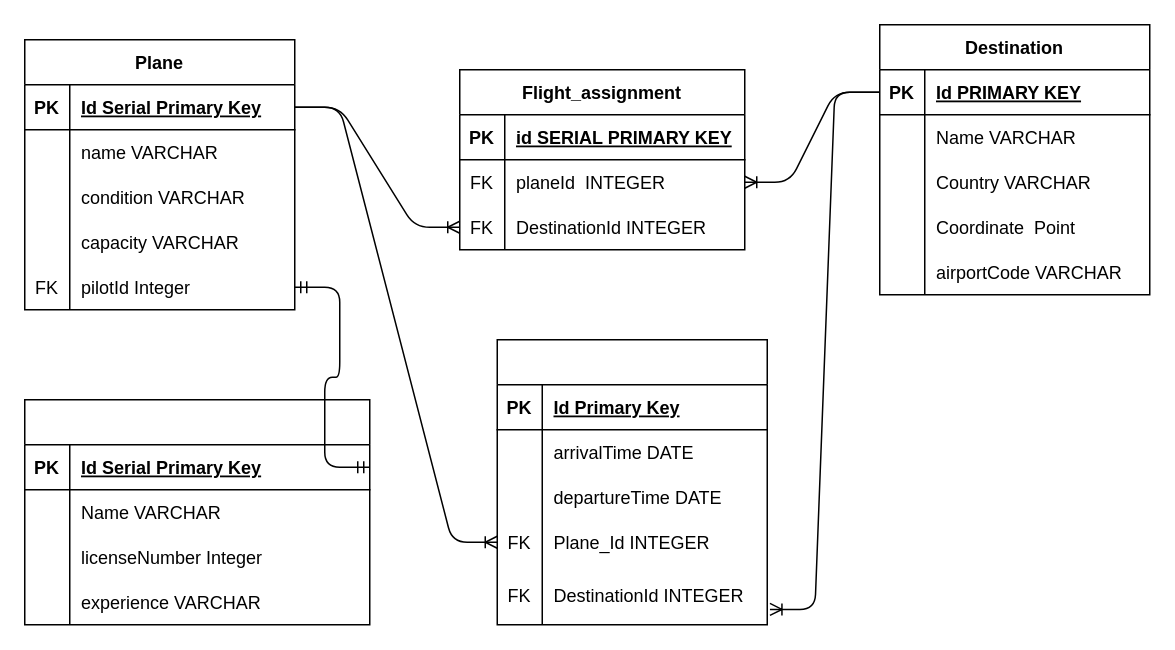
Some shapes in this 1175 by 650 pixel diagram are drawn without their labels. Each missing label, with the box of its shape:
Pilot: (23, 398, 370, 625)
Schedule: (496, 338, 767, 625)
